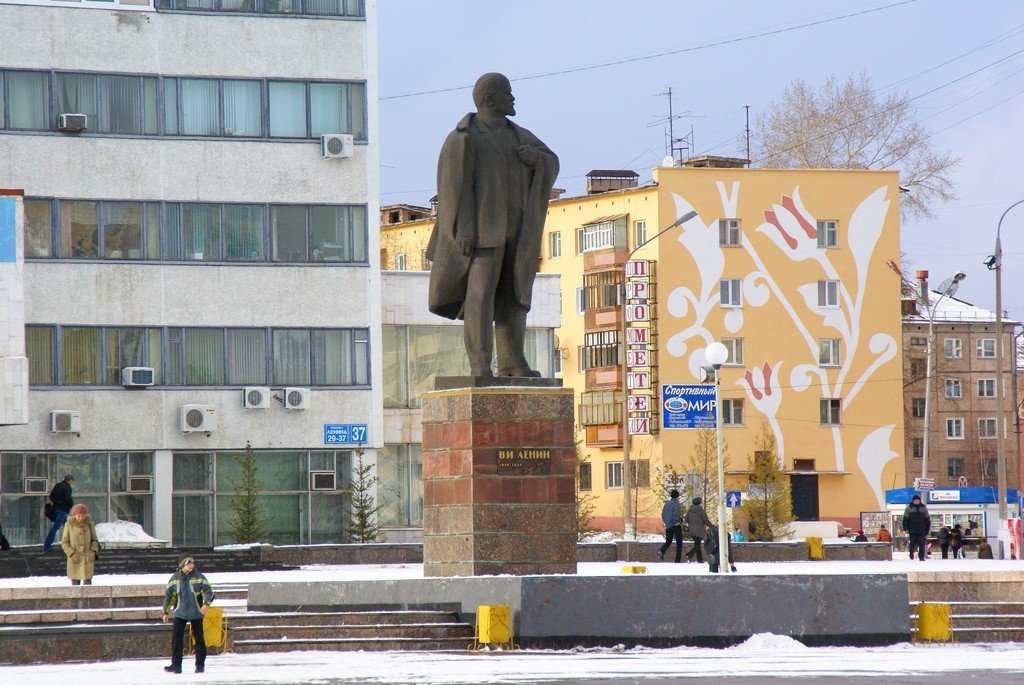sign: (725, 489, 743, 510), (956, 475, 969, 492)
